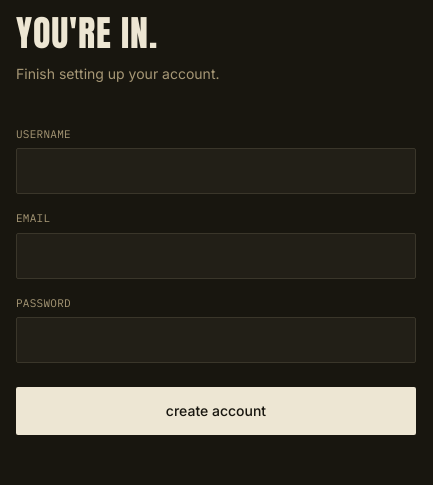
Test: RegisterForm mid-flow invite invalidation › surfaces a real signup error (e.g. email taken) without claiming the invite is invalid
In the field labelled "username": (216, 171) [16,148,416,194], type "newuser"
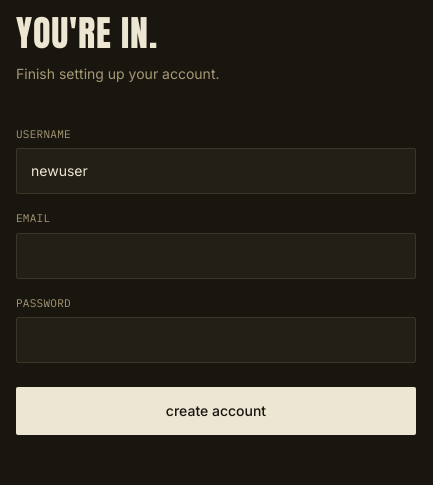
In the field labelled "email": (216, 256) [16,233,416,279], type "taken@example.com"
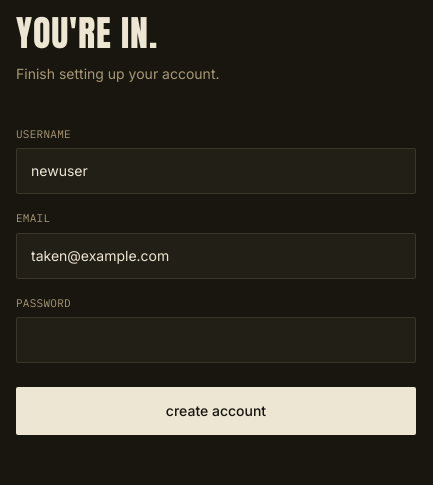
In the password field labelled "password": (216, 340) [16,317,416,363], type "hunter22"
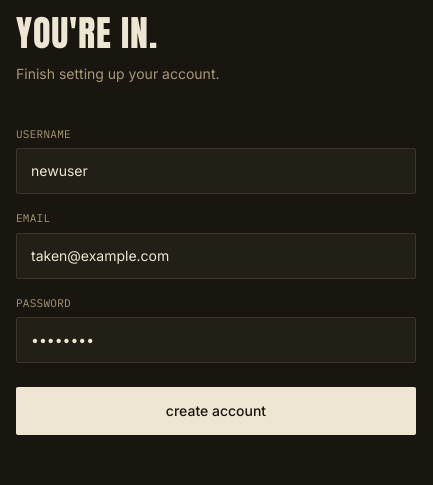
Click the button "create account": (216, 411) [16,387,416,435]
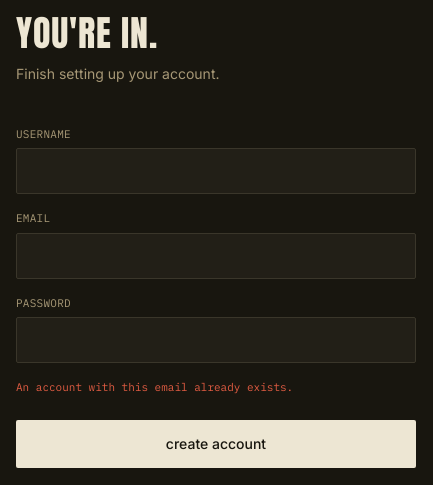
Expected: the field labelled "username" is shown, [16,148,416,194]
Expected: the text "An account with this email already exists." is shown, [16,380,293,394]
